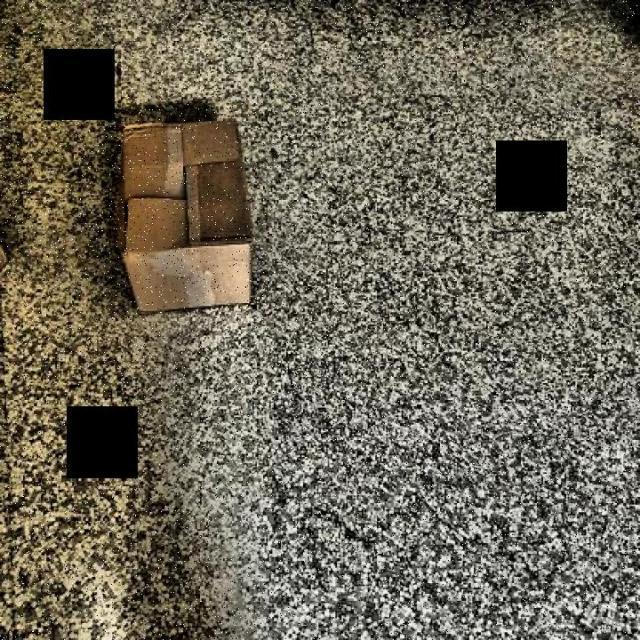box: (105, 102, 268, 318)
